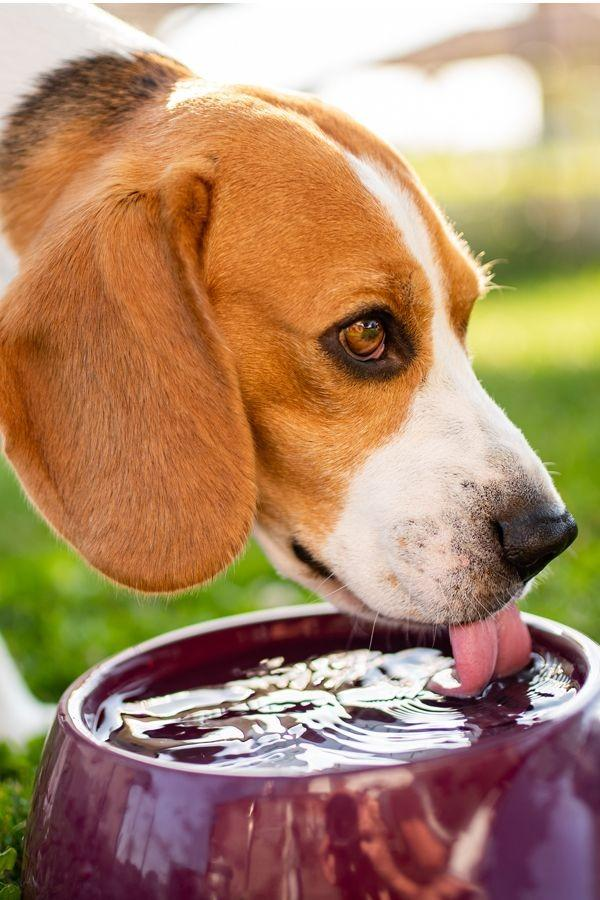adult_dog: (0, 4, 582, 747)
